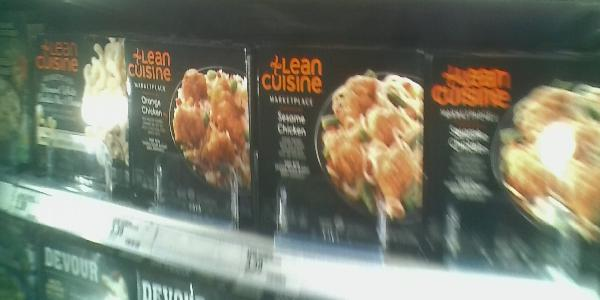pizza1: (428, 48, 600, 261), (258, 41, 425, 256), (127, 37, 256, 233), (31, 31, 129, 196)
